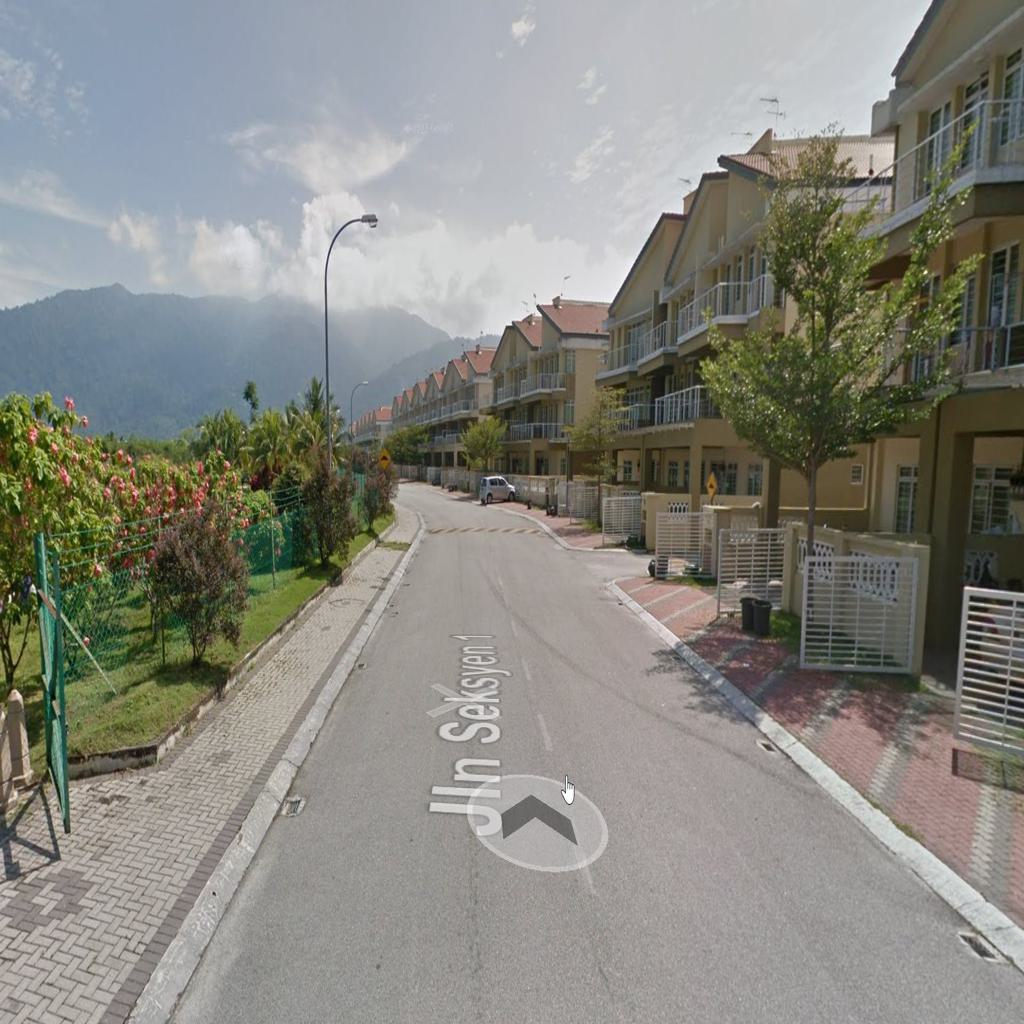Junction: (525, 523, 703, 611)
